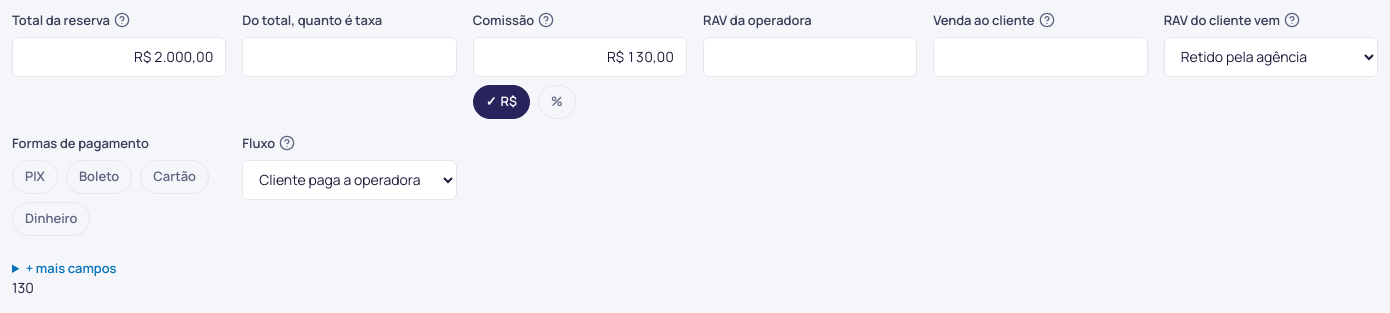
Test: L1: comissão em R$ ou % › R$→% preenche o % do valor atual; %→R$ mantém o valor calculado
Click the button named "Comissão em %" at coordinates (557, 102), box [538,85,576,119]
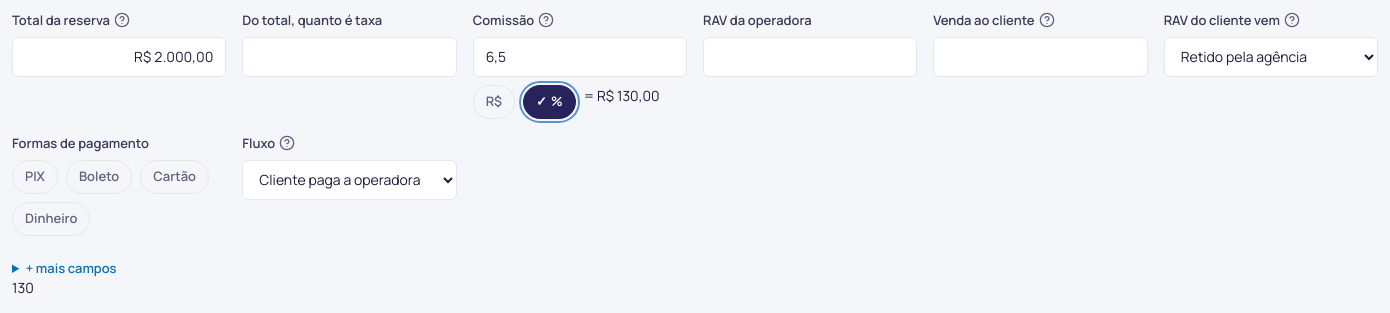
Now the field labelled "Comissão" holds "6,5"
Replace the text in the field labelled "Comissão" with "7" at coordinates (580, 57), box [473,37,687,77]
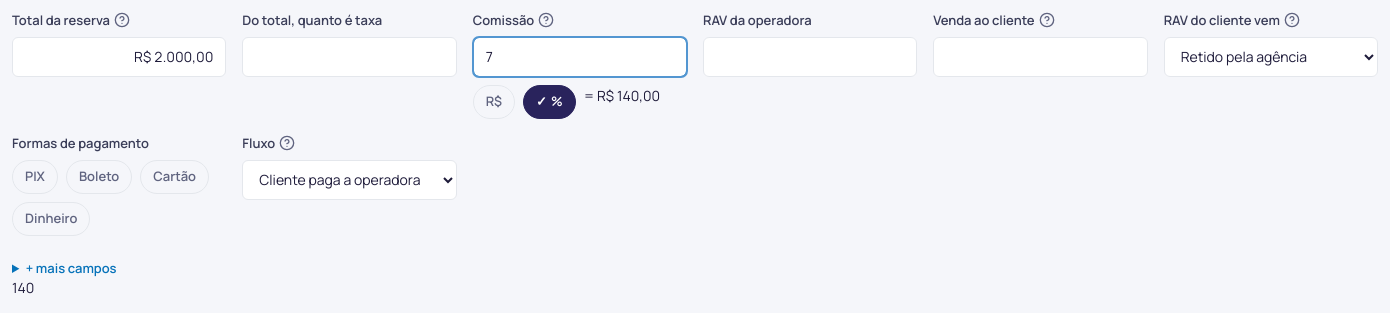
Click the button named "Comissão em R$" at coordinates (494, 102), box [473,85,515,119]
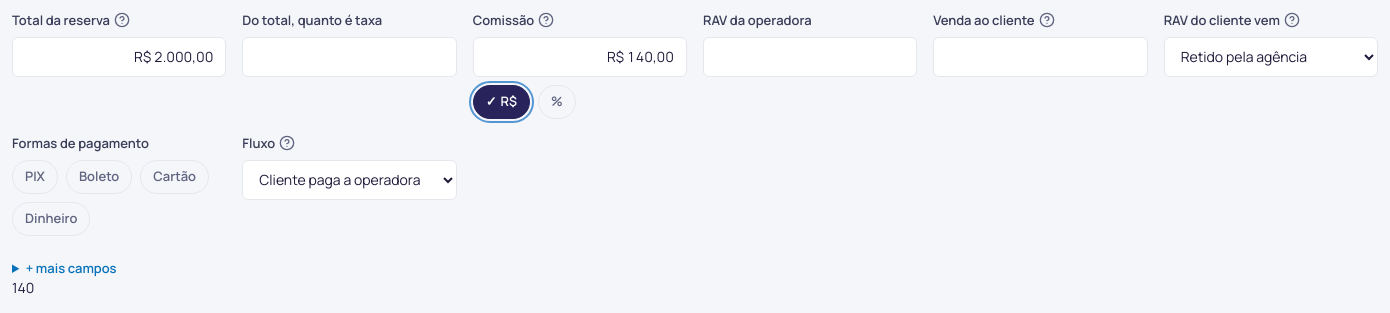
Now the text with test id "comissao" reads "140", box [12,278,34,297]
Now the field labelled "Comissão" holds "R$ 140,00", box [473,37,687,77]
